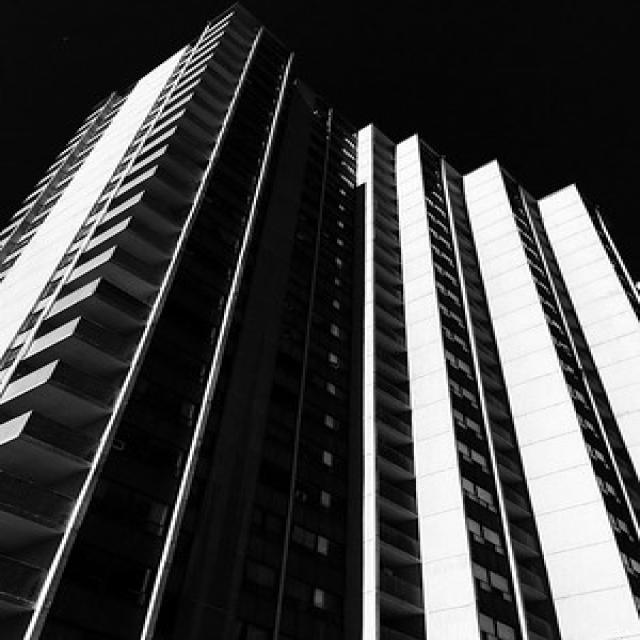building: (6, 9, 639, 640)
